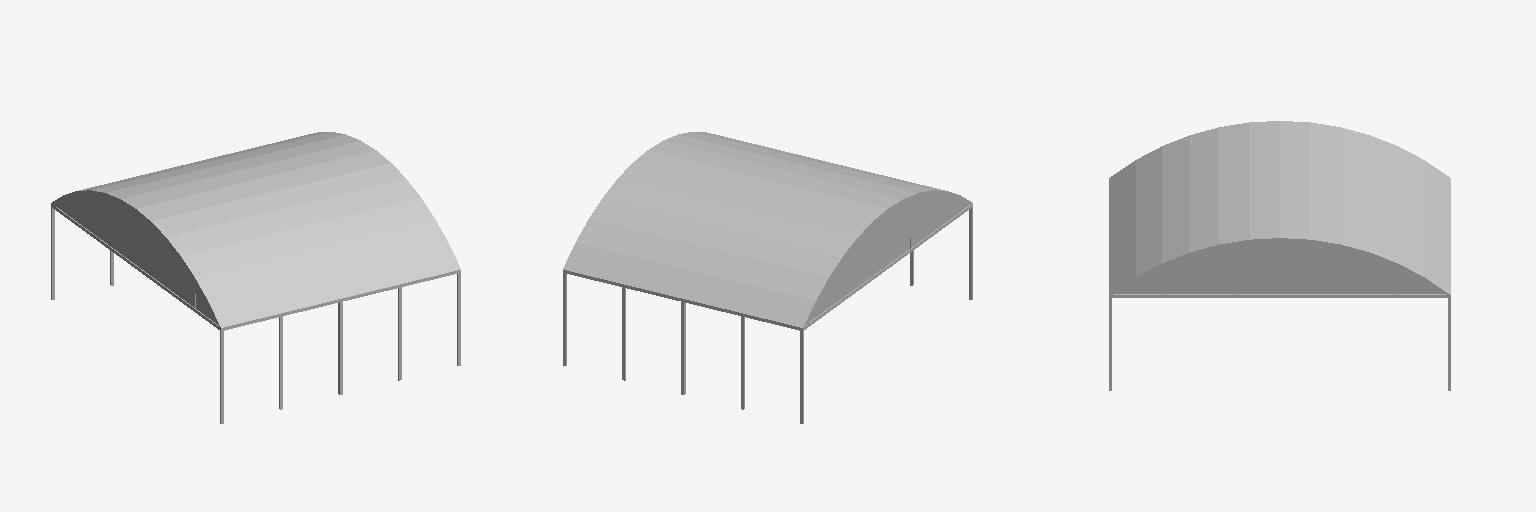
File: Verriere.obj
The picture shows the model from 3 angles: view 1: azimuth 30°, elevation 25°; view 2: azimuth 150°, elevation 25°; view 3: azimuth 270°, elevation 25°; orthographic projection.
Parts seen in each view (by area): view 1: Mesh39 BigWindow1 Model, Mesh15 Arche3 structure3 Model, Mesh49 Cadre1 Model, Mesh58 Verriere_front2 Model; view 2: Mesh39 BigWindow1 Model, Mesh15 Arche3 structure3 Model, Mesh49 Cadre1 Model, Mesh58 Verriere_front2 Model; view 3: Mesh39 BigWindow1 Model, Mesh52 Verriere_front1 Model, Mesh27 Arche5 structure5 Model, Mesh49 Cadre1 Model.
Boxes of the visible parts, x1=… form: Mesh39 BigWindow1 Model: x1=83, y1=132, x2=458, y2=327; Mesh15 Arche3 structure3 Model: x1=51, y1=190, x2=223, y2=327; Mesh49 Cadre1 Model: x1=52, y1=205, x2=457, y2=330; Mesh58 Verriere_front2 Model: x1=64, y1=212, x2=217, y2=324; Mesh39 BigWindow1 Model: x1=565, y1=132, x2=940, y2=327; Mesh15 Arche3 structure3 Model: x1=800, y1=190, x2=972, y2=327; Mesh49 Cadre1 Model: x1=563, y1=204, x2=972, y2=330; Mesh58 Verriere_front2 Model: x1=817, y1=197, x2=970, y2=316; Mesh39 BigWindow1 Model: x1=1109, y1=121, x2=1450, y2=293; Mesh52 Verriere_front1 Model: x1=1110, y1=241, x2=1449, y2=293; Mesh27 Arche5 structure5 Model: x1=1109, y1=237, x2=1450, y2=294; Mesh49 Cadre1 Model: x1=1111, y1=294, x2=1450, y2=297.
Bounding box in the file's own units: 81.4 × 49.53 × 100.